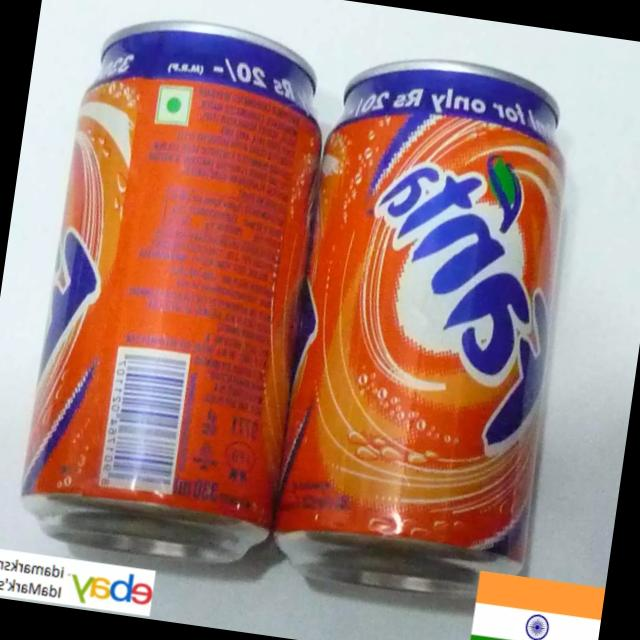fanta: (278, 46, 594, 618)
